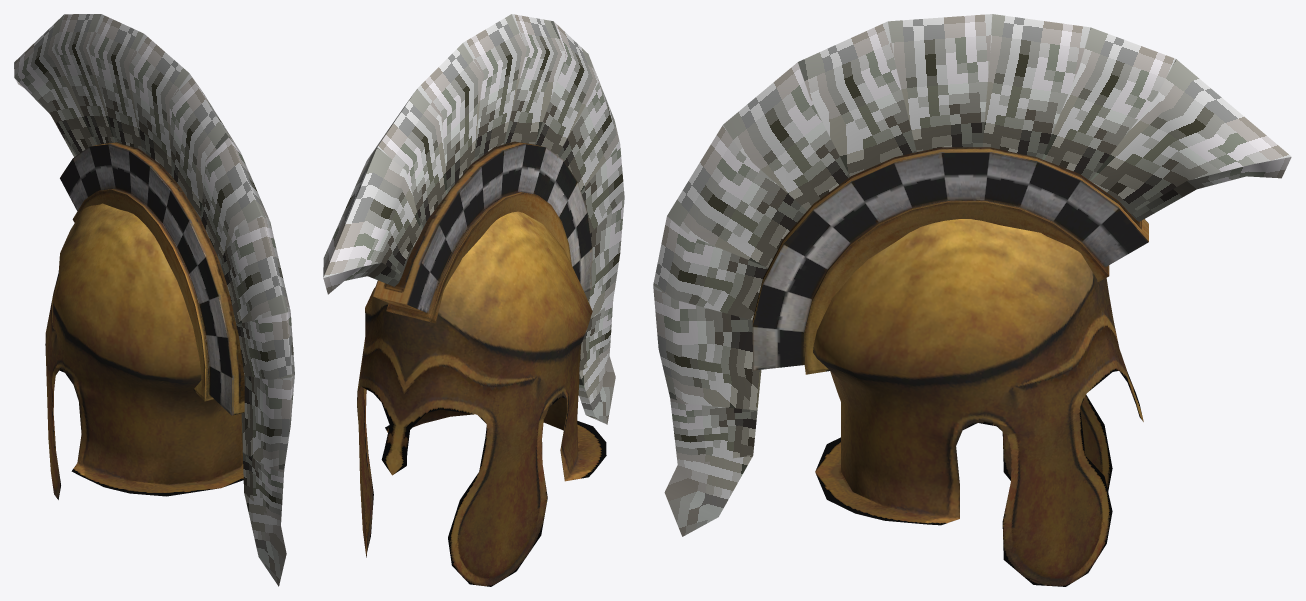
File: helm_hele_chalcidean_a5.glb
The picture shows the model from 3 angles, left to right: view 1: azimuth 30°, elevation 25°; view 2: azimuth 150°, elevation 25°; view 3: azimuth 270°, elevation 25°; orthographic projection. The views are drawn at different scales.
Visible parts, largest first — view 1: helm_hele_chalcidean_a5_part2, helm_hele_chalcidean_a5_part0, helm_hele_chalcidean_a5_part1; view 2: helm_hele_chalcidean_a5_part0, helm_hele_chalcidean_a5_part2, helm_hele_chalcidean_a5_part1; view 3: helm_hele_chalcidean_a5_part2, helm_hele_chalcidean_a5_part0, helm_hele_chalcidean_a5_part1.
Boxes of the visible parts, left/top/right/bottom form: helm_hele_chalcidean_a5_part2: left=14, top=14, right=294, bottom=586; helm_hele_chalcidean_a5_part0: left=45, top=203, right=243, bottom=499; helm_hele_chalcidean_a5_part1: left=60, top=142, right=244, bottom=415; helm_hele_chalcidean_a5_part0: left=357, top=211, right=606, bottom=586; helm_hele_chalcidean_a5_part2: left=323, top=14, right=624, bottom=424; helm_hele_chalcidean_a5_part1: left=372, top=141, right=592, bottom=323; helm_hele_chalcidean_a5_part2: left=653, top=14, right=1291, bottom=536; helm_hele_chalcidean_a5_part0: left=813, top=219, right=1143, bottom=586; helm_hele_chalcidean_a5_part1: left=752, top=147, right=1148, bottom=374.
Size of the model in its own units: 0.4829 by 1.14 by 1.22.
Materials: 3 (3 with a texture image).
